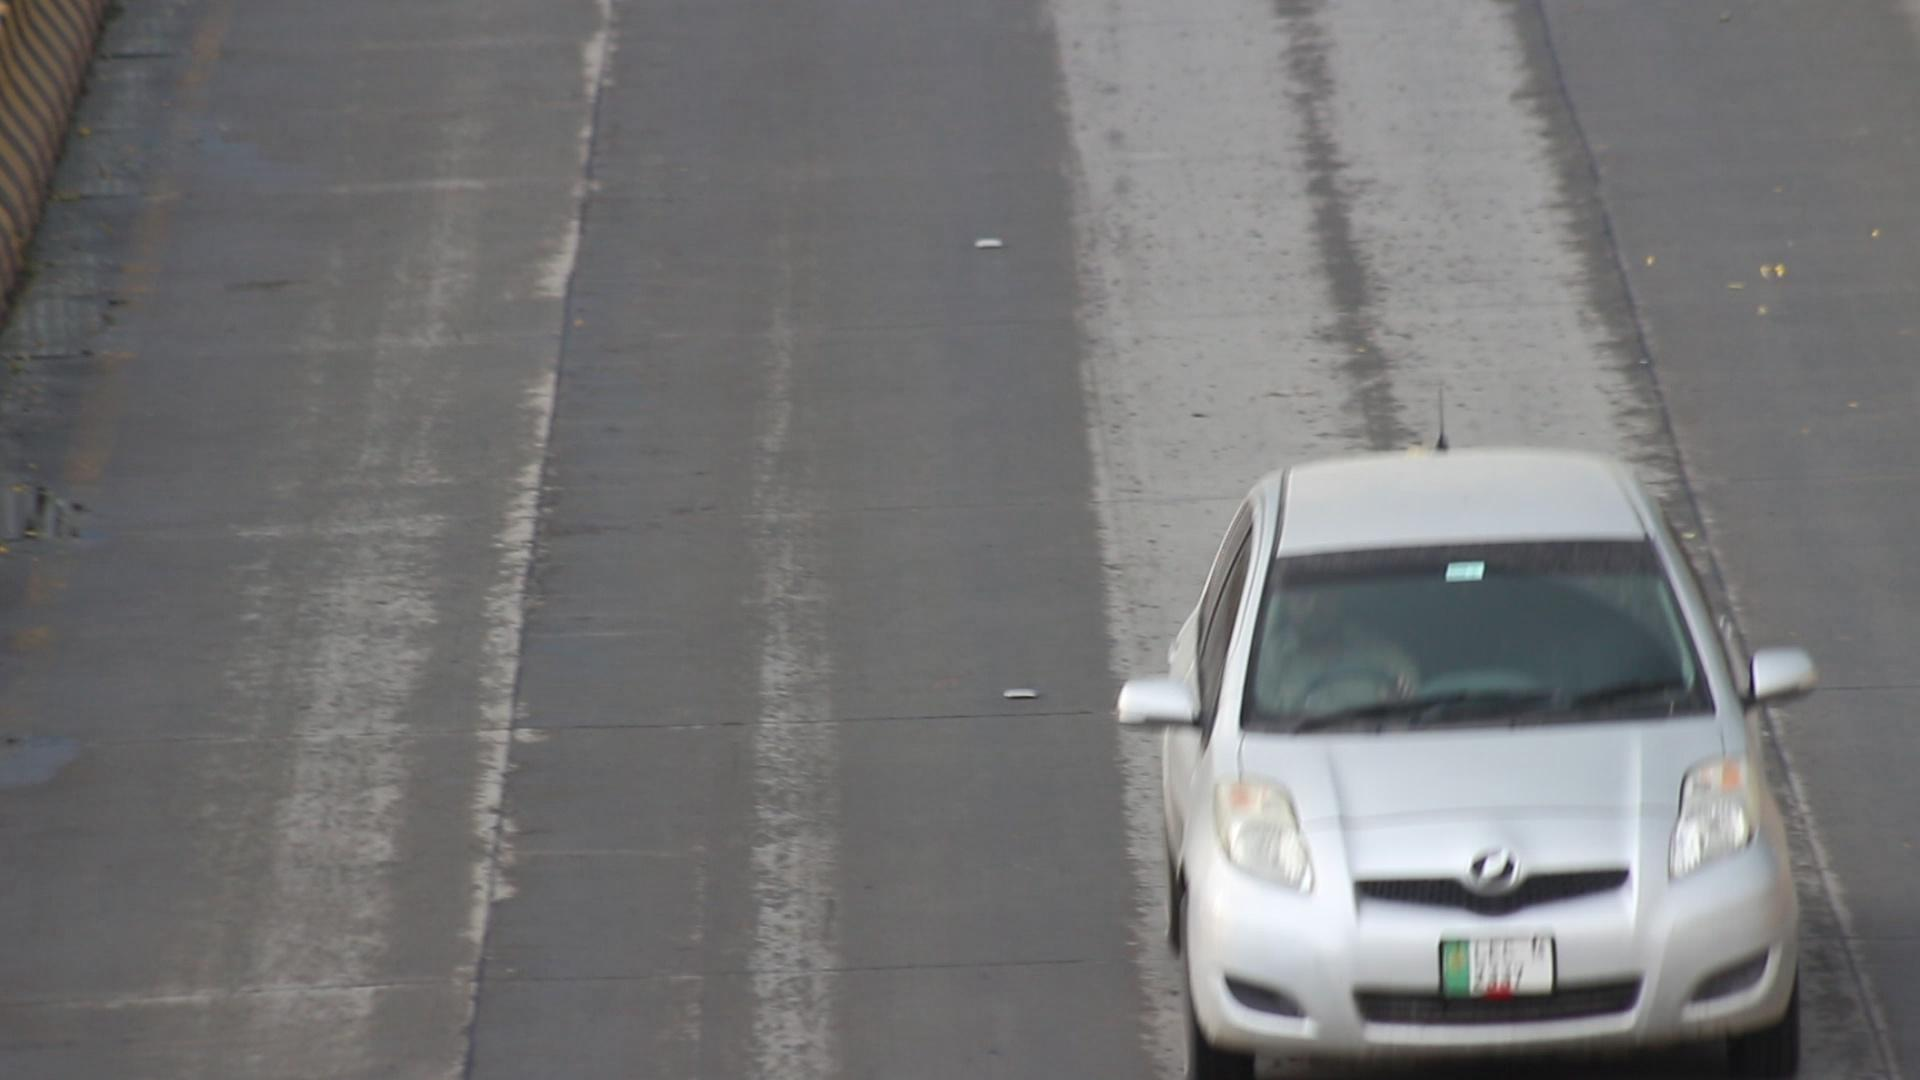windshield: (1241, 533, 1727, 750)
